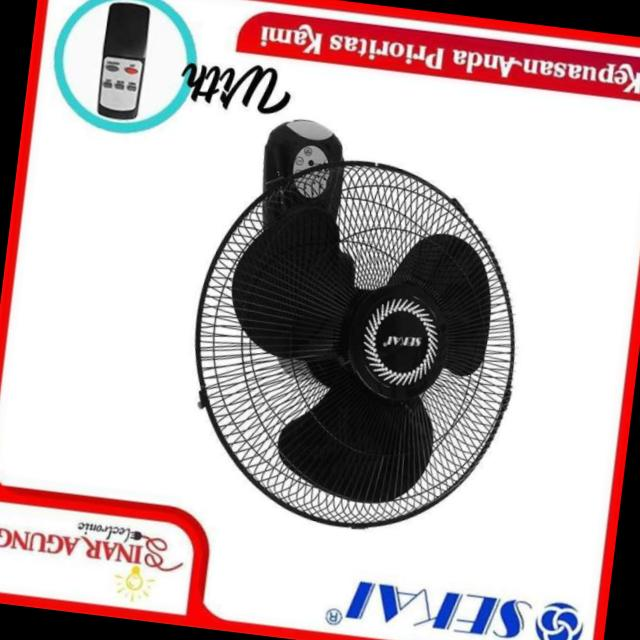fan: (138, 102, 550, 560)
